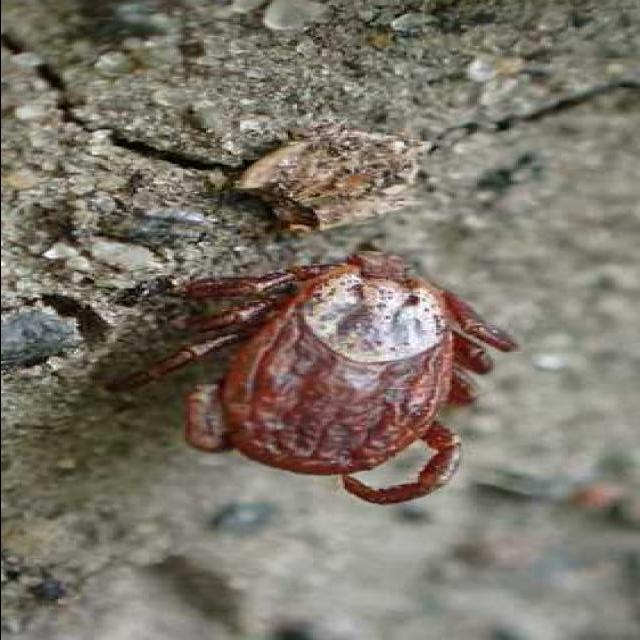Dermacentor Reticulatus-F: (105, 251, 519, 506)
